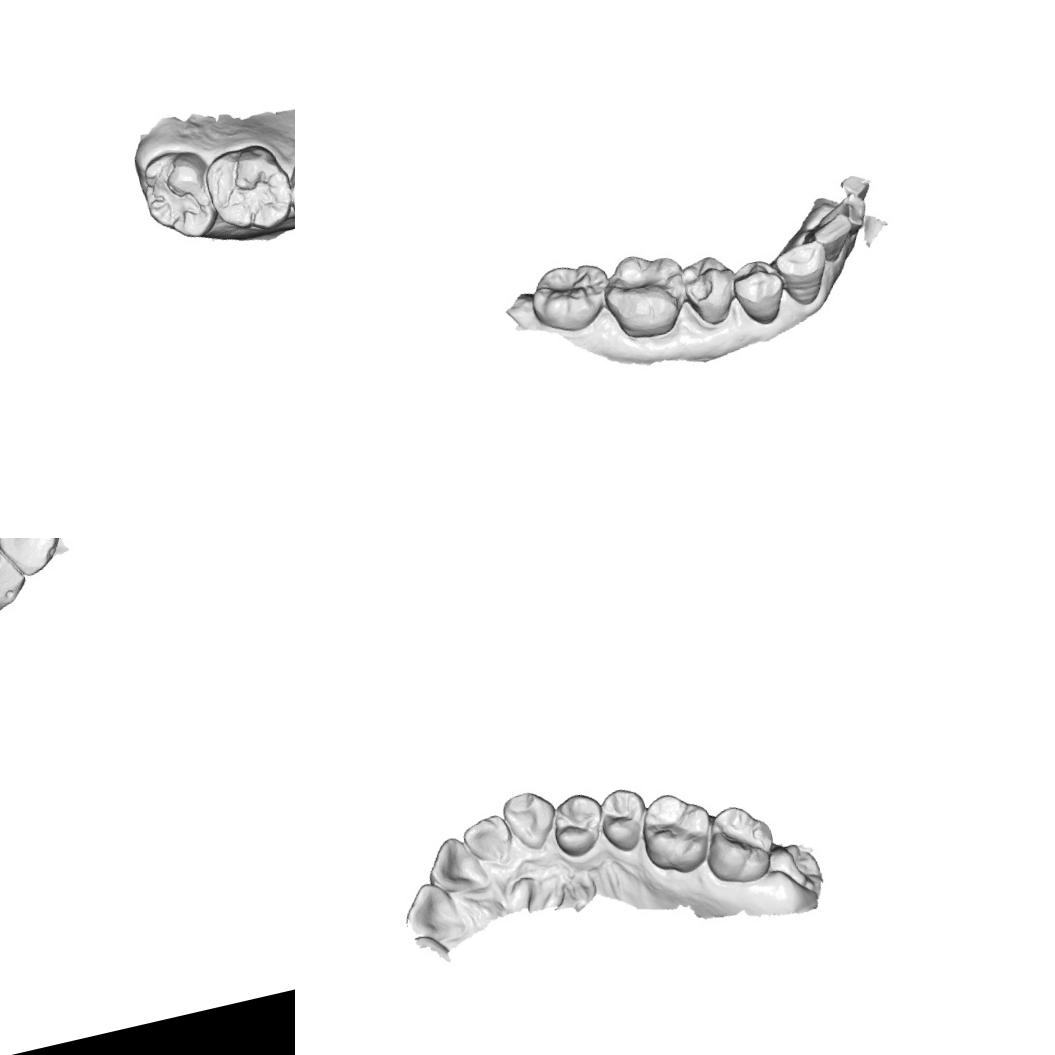canine: (770, 236, 838, 311), (498, 785, 563, 856)
incisor: (419, 831, 491, 899), (396, 878, 464, 948), (804, 188, 872, 242), (800, 210, 860, 268), (458, 811, 516, 867)
molar: (199, 136, 295, 244), (596, 244, 696, 347), (133, 144, 222, 249), (521, 252, 618, 344), (634, 785, 722, 881), (696, 798, 781, 891)
premolar: (676, 249, 745, 334), (725, 253, 794, 330), (546, 788, 612, 861), (594, 783, 654, 856), (0, 538, 70, 584), (0, 538, 34, 622), (281, 149, 295, 225)
